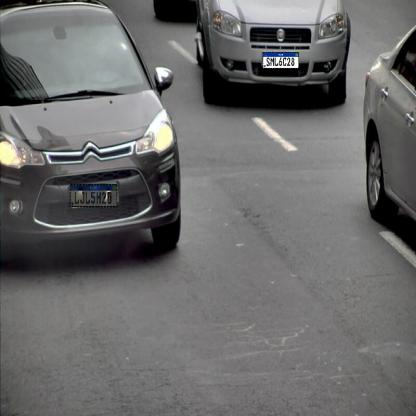PlacaM: (70, 184, 118, 207), (263, 52, 299, 69)
